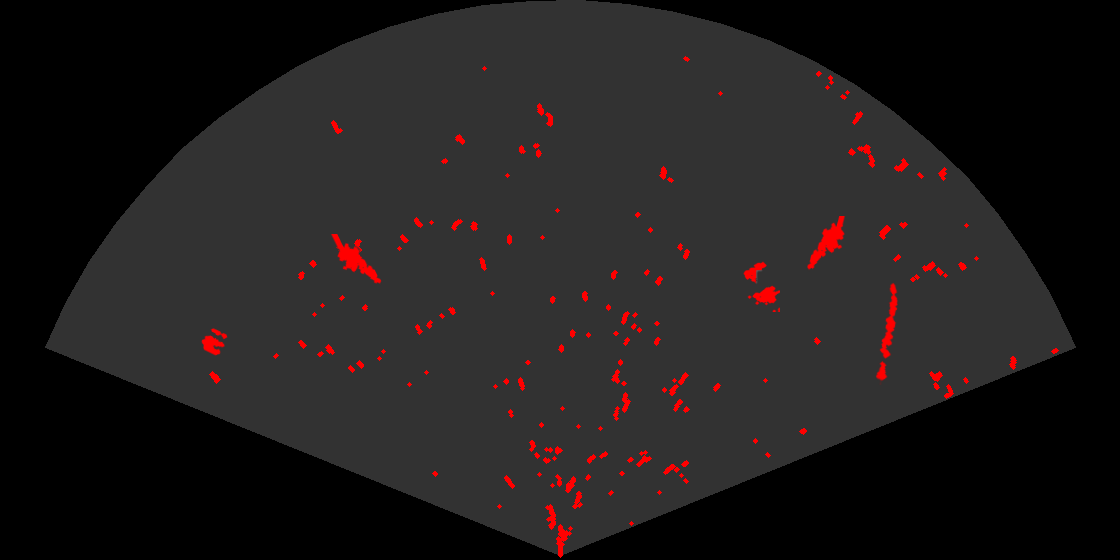ball: (200, 327, 229, 357)
cage: (742, 260, 780, 312)
chain: (874, 281, 899, 385)
frogman: (329, 234, 383, 286), (806, 216, 847, 272)
